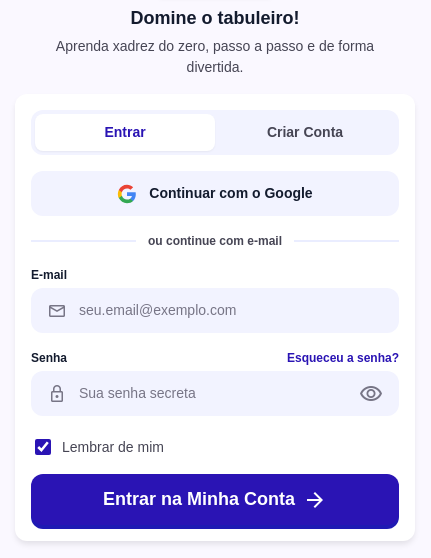
Login mobile › informa criação da conta mesmo se o nome não puder ser salvo
This screenshot has width=431, height=558.
Click the button "Criar Conta": (305, 132) x1=215 y1=114 x2=395 y2=151
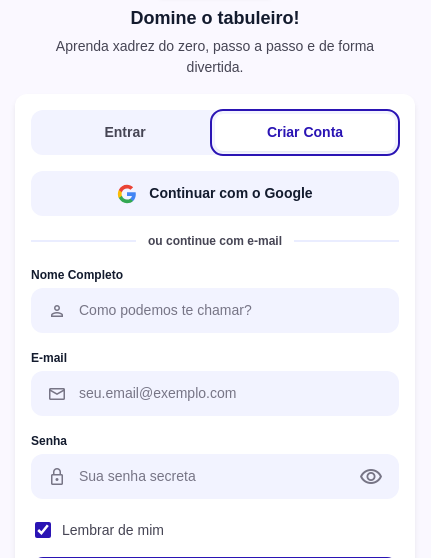
In the field labelled "Nome Completo": (233, 310) x1=67 y1=288 x2=399 y2=333, type "Ana"
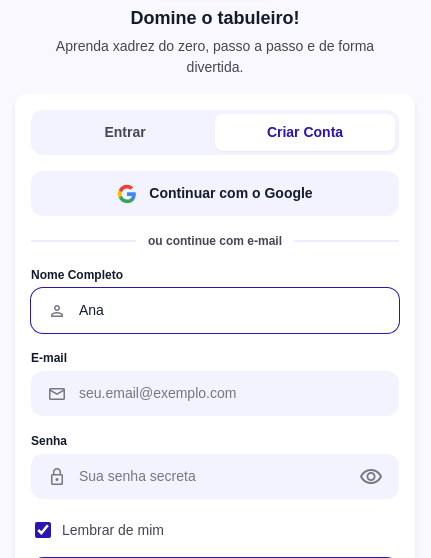
In the field labelled "E-mail": (233, 394) x1=67 y1=371 x2=399 y2=416, type "ana@example.com"
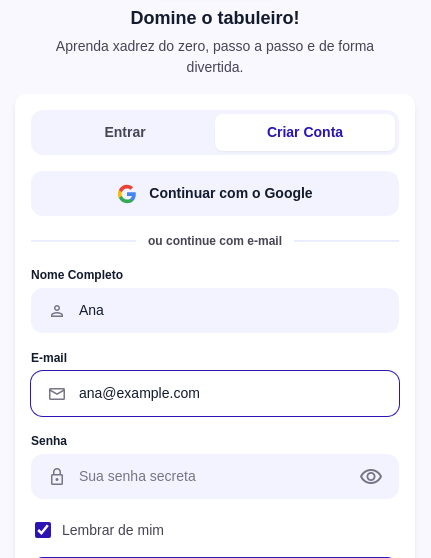
In the password field labelled "Senha": (209, 476) x1=67 y1=454 x2=351 y2=499, type "senha123"
(page scrolled)
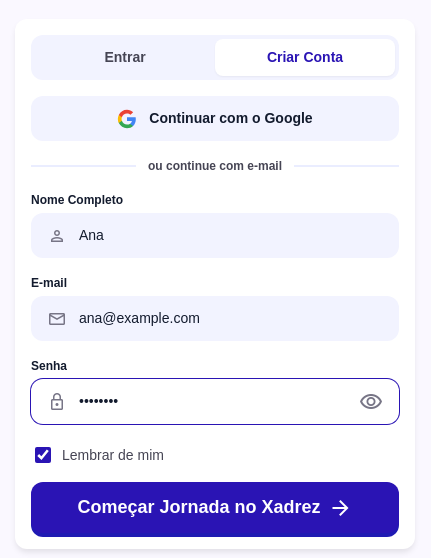
Click the button "Começar Jornada no Xadrez": (215, 508) x1=31 y1=482 x2=399 y2=533
(page scrolled)
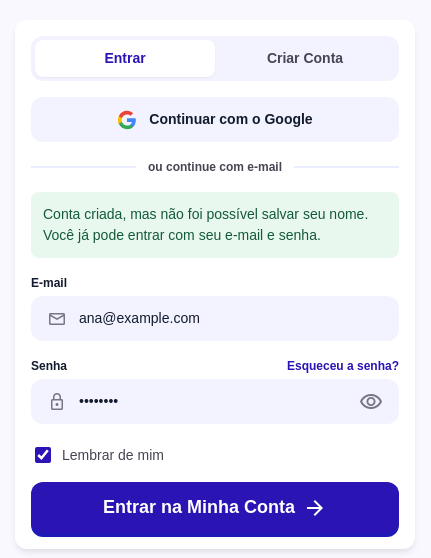
Now the message shows "Conta criada", box x1=43 y1=206 x2=368 y2=243
